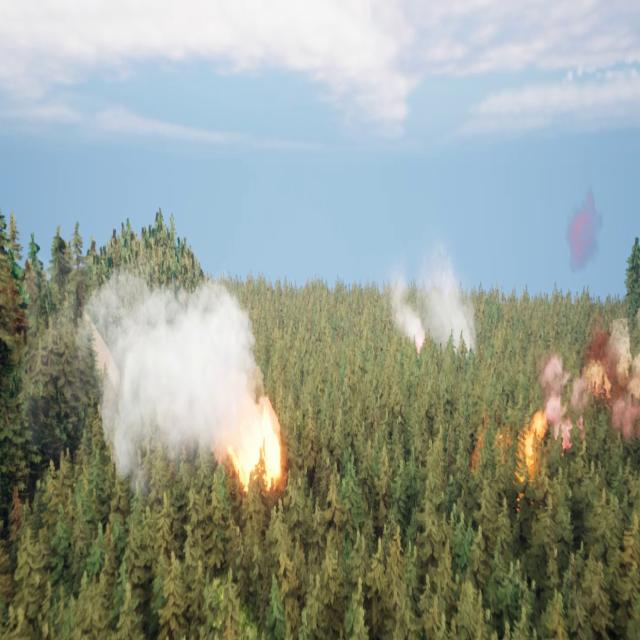fire: (228, 409, 288, 493), (483, 412, 546, 478)
smoke: (82, 267, 265, 468), (546, 306, 640, 452), (389, 244, 486, 358), (564, 183, 606, 270)
